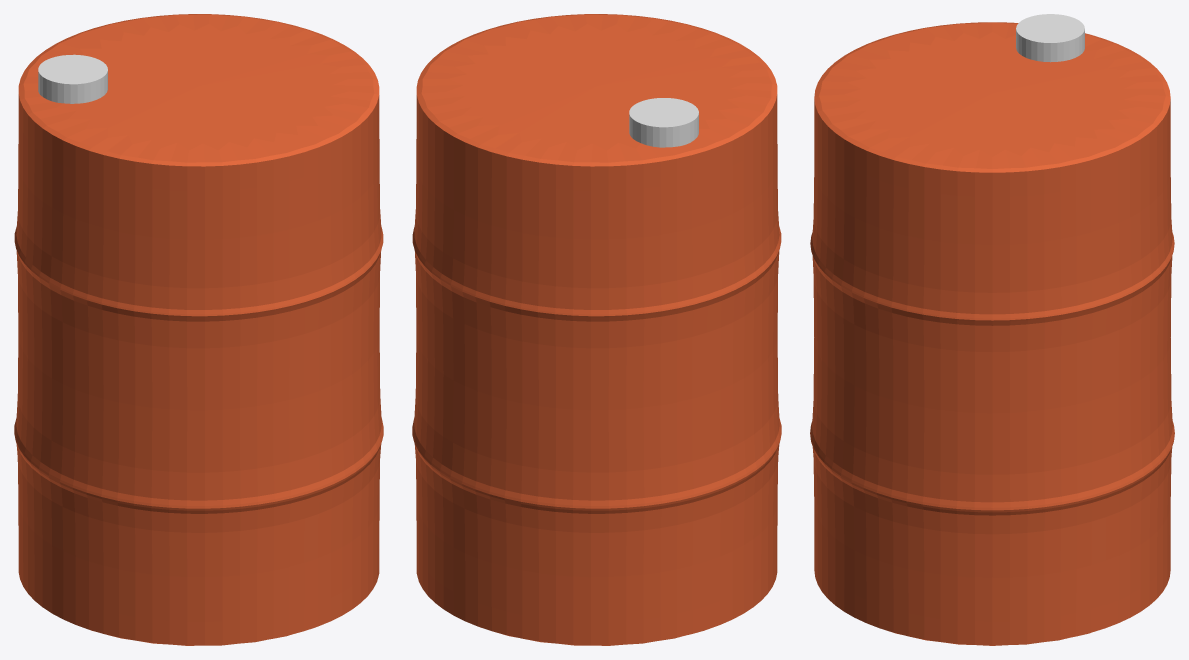
File: NotSoExplosiveBarrel.fbx
The picture shows the model from 3 angles, left to right: view 1: azimuth 30°, elevation 25°; view 2: azimuth 150°, elevation 25°; view 3: azimuth 270°, elevation 25°; orthographic projection.
Visible parts, largest first — view 1: Cylinder, Cylinder.001; view 2: Cylinder, Cylinder.001; view 3: Cylinder, Cylinder.001.
Boxes of the visible parts, left/top/right/bottom form: Cylinder: left=14, top=14, right=383, bottom=645; Cylinder.001: left=38, top=54, right=107, bottom=103; Cylinder: left=412, top=14, right=781, bottom=645; Cylinder.001: left=629, top=98, right=698, bottom=147; Cylinder: left=810, top=22, right=1174, bottom=645; Cylinder.001: left=1016, top=14, right=1084, bottom=62.
Size of the model in its own units: 58.21 by 88.29 by 58.21.
